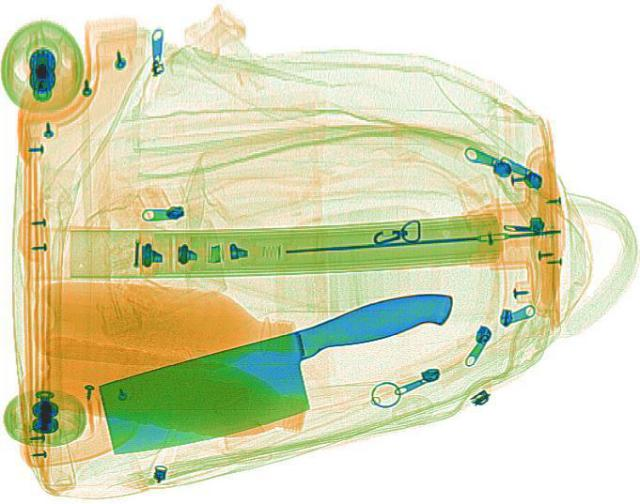Knife: (74, 273, 486, 470)
